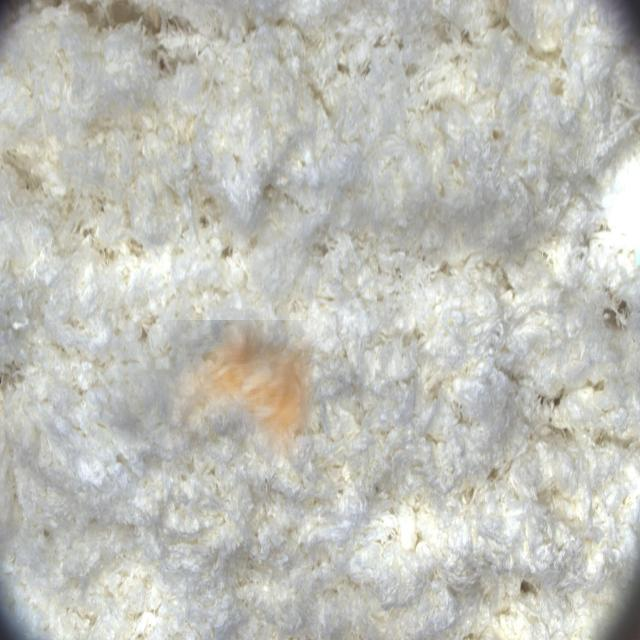dust: (169, 320, 314, 463)
